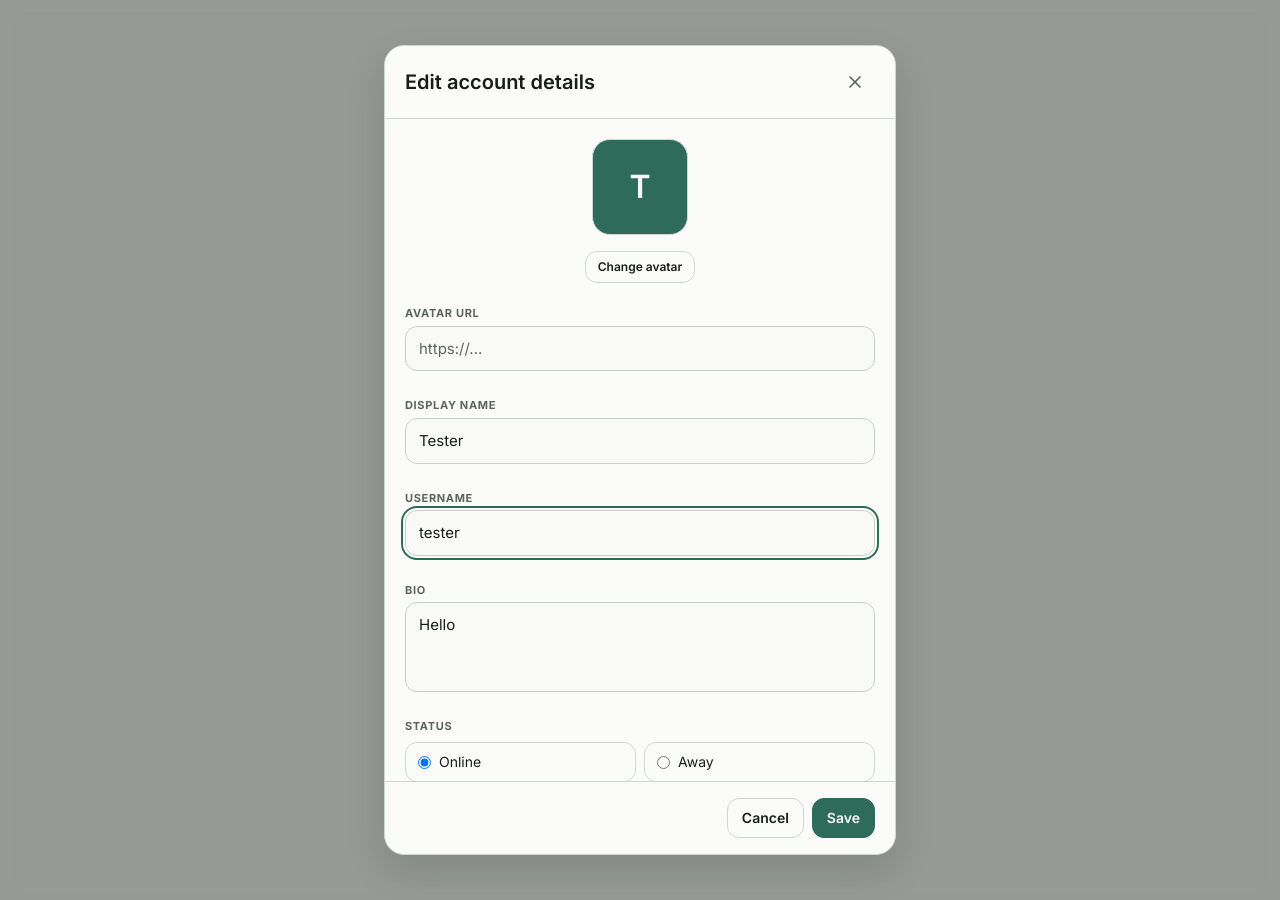
ProfileModal › exposes status as one semantic single-choice group
The width and height of the screenshot is (1280, 900).
expect the radio button labelled "Online" is checked: met, box [418,756,431,768]
Step 1. Click the radio button labelled "Away" → x=664, y=762, box [657,756,670,768]
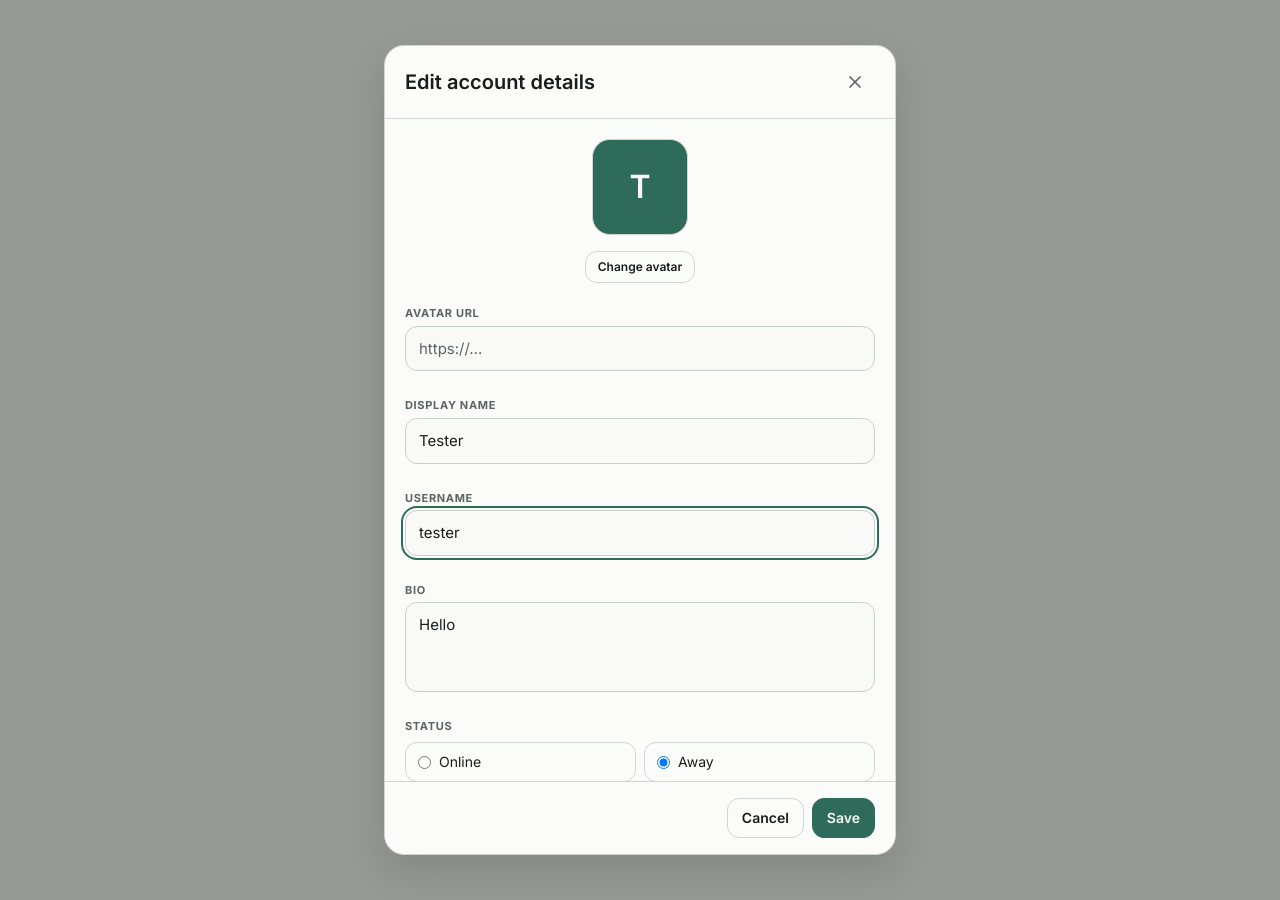
expect the radio button labelled "Away" is checked: met, box [657,756,670,768]
expect the radio button labelled "Online" is not checked: met, box [418,756,431,768]
